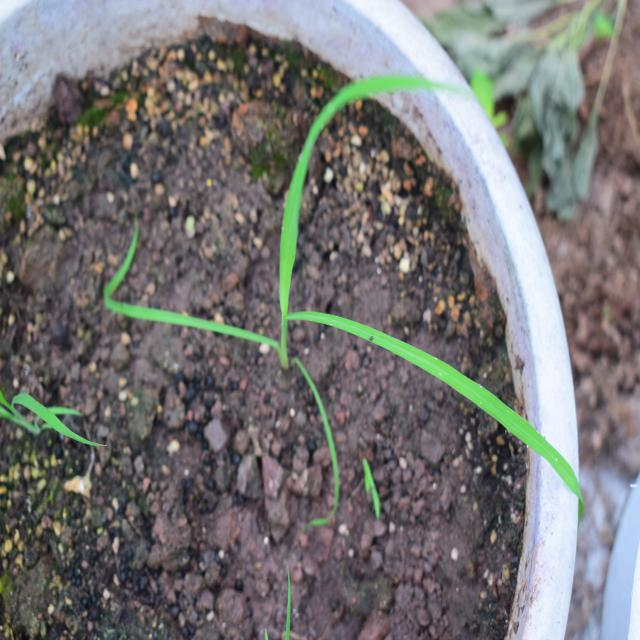barnyard_grass: (143, 48, 589, 495)
